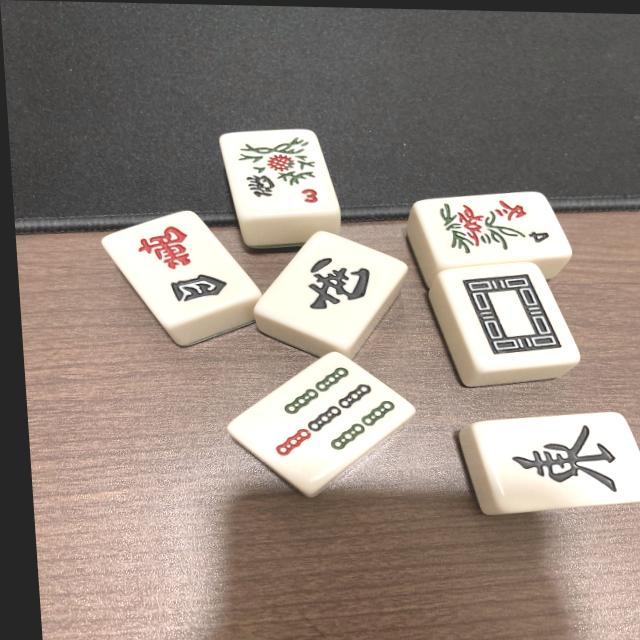bai: (442, 263, 578, 378)
east: (474, 415, 640, 516)
f3: (223, 130, 339, 216)
ff4: (421, 192, 567, 273)
m4: (103, 210, 261, 335)
s7: (224, 350, 415, 499)
south: (270, 238, 405, 352)
